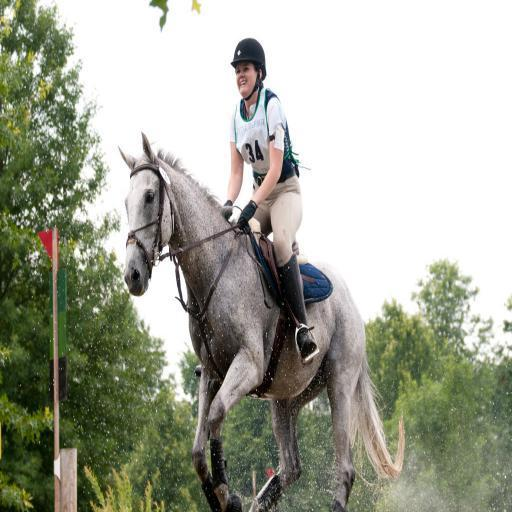horse: (117, 130, 405, 512)
